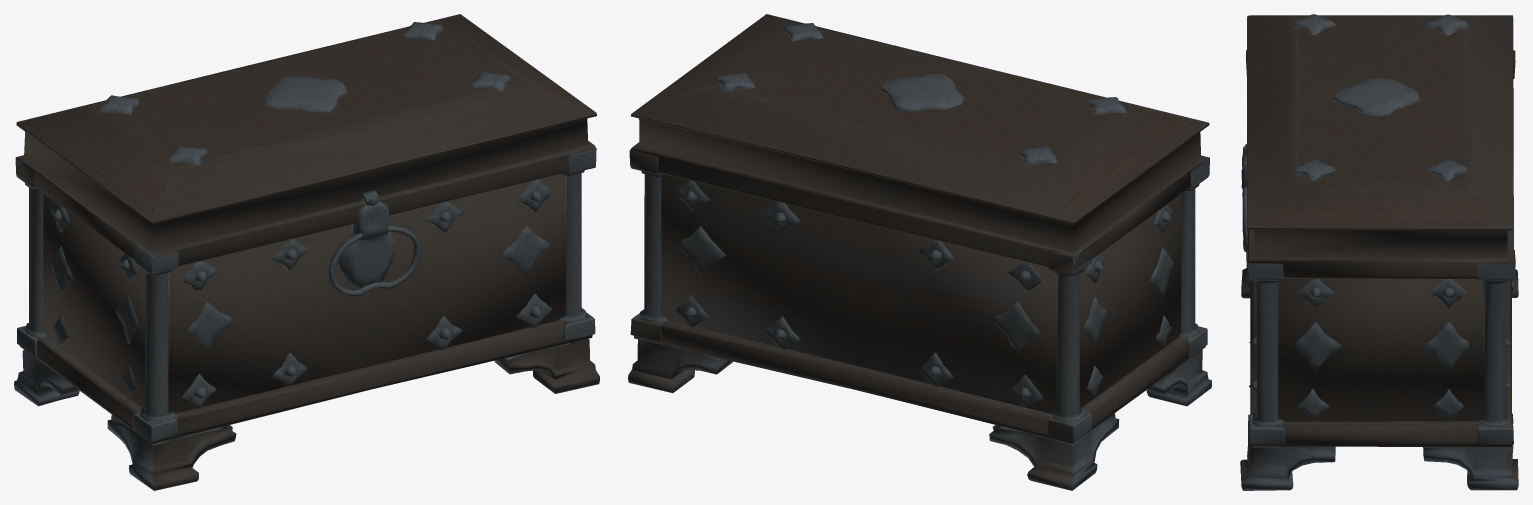
Rendered from SealedChest.glb.
3 renders of one model, left to right at view 1: azimuth 30°, elevation 25°; view 2: azimuth 150°, elevation 25°; view 3: azimuth 270°, elevation 25°, orthographic. The views are drawn at different scales.
Size of the model in its own units: 1 by 0.6413 by 0.5546.
1 material, 1 textured.
